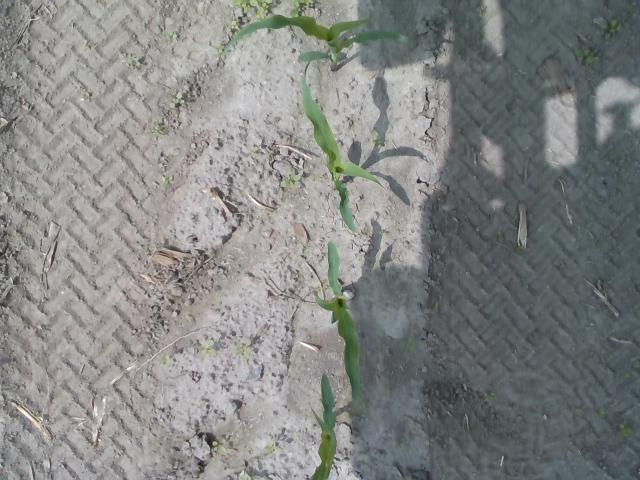Maize: (300, 60, 388, 234), (221, 14, 418, 72), (312, 240, 362, 407), (307, 372, 337, 480)
Weeds: (230, 0, 275, 20), (290, 0, 317, 19), (598, 18, 626, 36), (574, 48, 601, 66), (398, 335, 422, 354), (617, 421, 636, 442), (280, 170, 302, 188), (481, 384, 497, 401), (169, 92, 185, 108), (200, 345, 213, 357), (128, 55, 142, 66), (248, 146, 260, 158), (160, 356, 173, 366), (212, 440, 222, 451), (394, 438, 404, 448), (160, 175, 170, 184), (238, 344, 246, 354), (232, 20, 240, 30), (168, 32, 177, 40), (266, 446, 274, 454), (625, 373, 632, 378)
